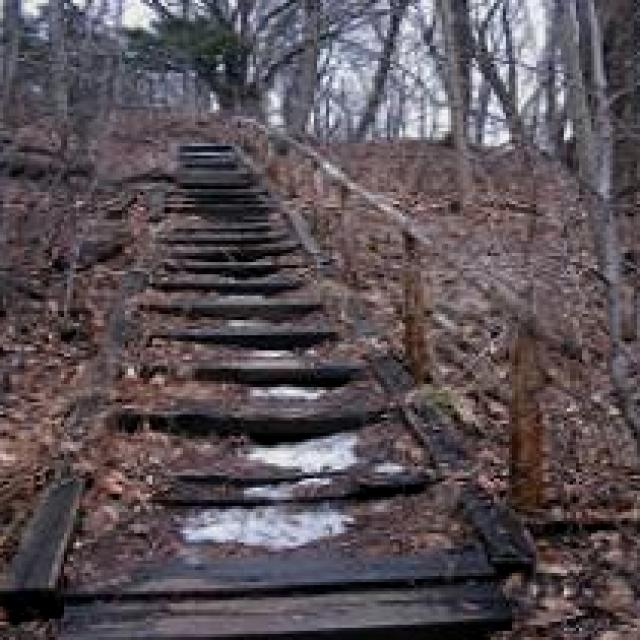upstair: (38, 342, 510, 640)
